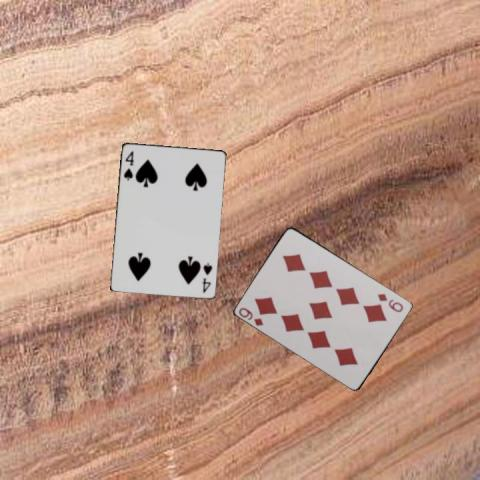4s: (200, 260, 214, 294), (120, 148, 134, 181)
9d: (374, 291, 404, 313), (236, 305, 265, 327)
